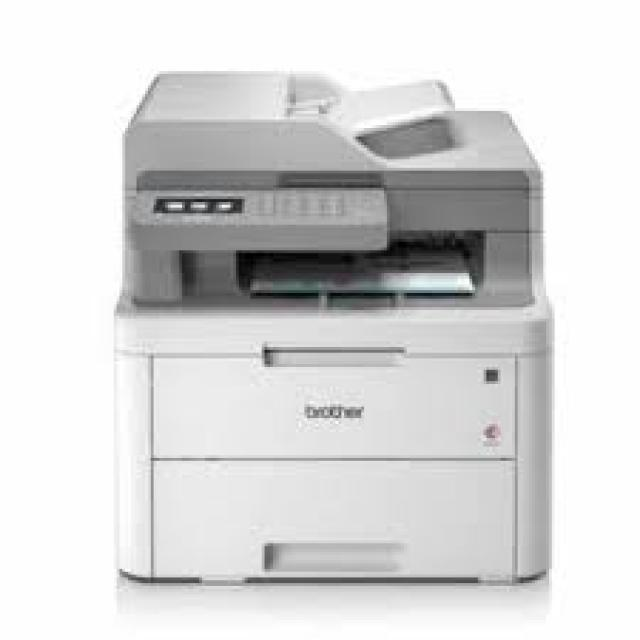printer: (111, 65, 555, 586)
